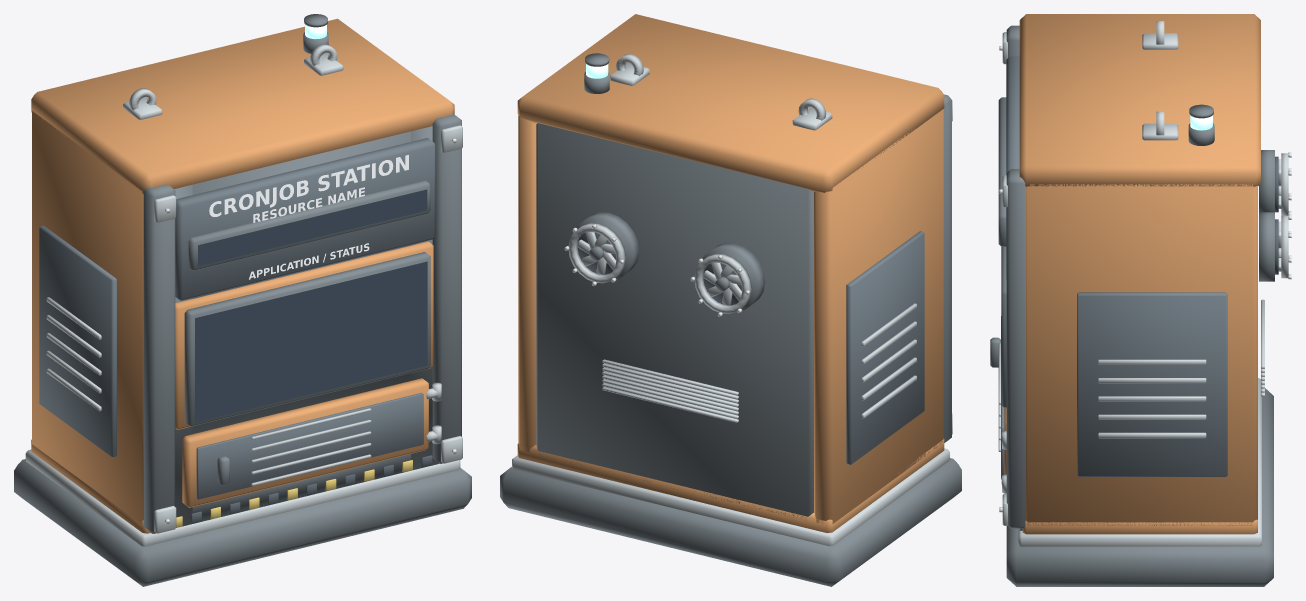
The model's file is cronjob_station_standard.glb.
The picture shows the model from 3 angles, left to right: view 1: azimuth 30°, elevation 25°; view 2: azimuth 150°, elevation 25°; view 3: azimuth 270°, elevation 25°; orthographic projection. The views are drawn at different scales.
Parts seen in each view (by area): view 1: Roof_orange, LiveViewSurface_glass, SideWall_orange, CornerPost_frame, Skid_frame, FrontHeader_graphite, SideServicePanel_graphite, DoorMoving_Inset_graphite, DoorMoving_Panel_orange, SkidDeck_steel, LiveViewSurfaceFrame_frame, ResourceNameSurface_glass (+15 smaller); view 2: BackWall_frame, Roof_orange, SideWall_orange, Skid_frame, SideServicePanel_graphite, SkidDeck_steel, KickPlate_orange, RearFan_steel, RearVent_steel, CornerPost_frame, RearFan_frame, SideLouver_steel (+3 smaller); view 3: SideWall_orange, Roof_orange, SideServicePanel_graphite, Skid_frame, CornerPost_frame, SkidDeck_steel, SideLouver_steel, KickPlate_orange, RearFan_frame, FrontHeader_graphite, RearFan_steel, ResourceNameSurfaceFrame_frame (+6 smaller).
Boxes of the visible parts, x1,y1,x2,y2 form: Roof_orange: (31, 18, 454, 193); LiveViewSurface_glass: (195, 261, 427, 422); SideWall_orange: (32, 111, 143, 524); CornerPost_frame: (143, 114, 461, 533); Skid_frame: (14, 459, 471, 586); FrontHeader_graphite: (175, 138, 435, 300); SideServicePanel_graphite: (39, 225, 116, 457); DoorMoving_Inset_graphite: (196, 393, 423, 499); DoorMoving_Panel_orange: (182, 378, 428, 507); SkidDeck_steel: (25, 449, 460, 546); LiveViewSurfaceFrame_frame: (184, 252, 430, 426); ResourceNameSurface_glass: (198, 189, 427, 266); BackWall_frame: (536, 123, 813, 519); Roof_orange: (517, 14, 944, 192); SideWall_orange: (518, 109, 943, 523); Skid_frame: (500, 458, 961, 586); SideServicePanel_graphite: (846, 231, 924, 464); SkidDeck_steel: (512, 448, 949, 546); KickPlate_orange: (517, 438, 944, 532); RearFan_steel: (568, 223, 751, 313); RearVent_steel: (602, 359, 738, 422); CornerPost_frame: (943, 94, 951, 442); RearFan_frame: (576, 212, 765, 312); SideLouver_steel: (861, 303, 916, 418); SideWall_orange: (1026, 184, 1257, 525); Roof_orange: (1019, 14, 1260, 186); SideServicePanel_graphite: (1077, 292, 1227, 476); Skid_frame: (1006, 388, 1273, 586); CornerPost_frame: (1006, 25, 1025, 528); SkidDeck_steel: (1018, 378, 1261, 546); SideLouver_steel: (1098, 359, 1206, 438); KickPlate_orange: (1022, 519, 1257, 534); RearFan_frame: (1259, 150, 1274, 281); FrontHeader_graphite: (1006, 56, 1019, 279); RearFan_steel: (1278, 153, 1288, 278); ResourceNameSurfaceFrame_frame: (998, 97, 1006, 246).
Size of the model in its own units: 2 by 2.48 by 1.51.
